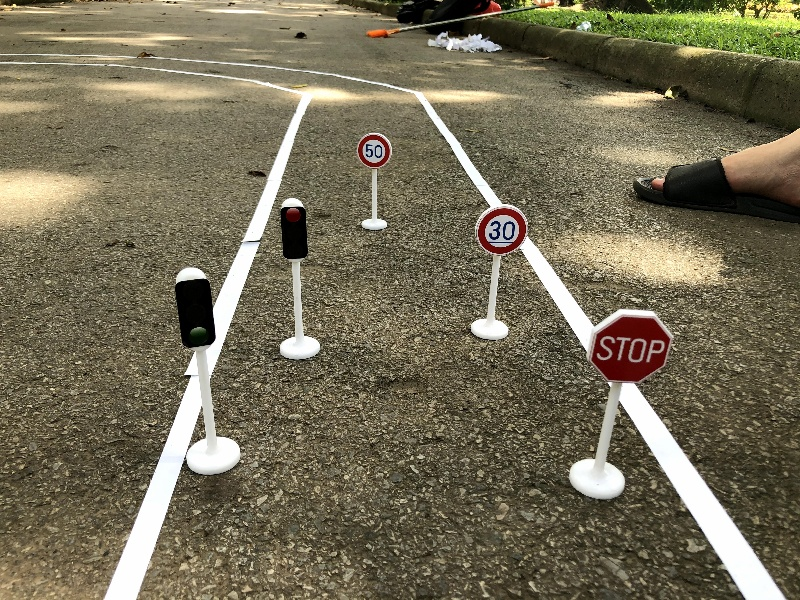Green: (176, 266, 240, 477)
Limit 30: (468, 203, 530, 341)
Limit 50: (356, 131, 393, 231)
Red: (278, 198, 322, 361)
Stop: (569, 307, 676, 501)
